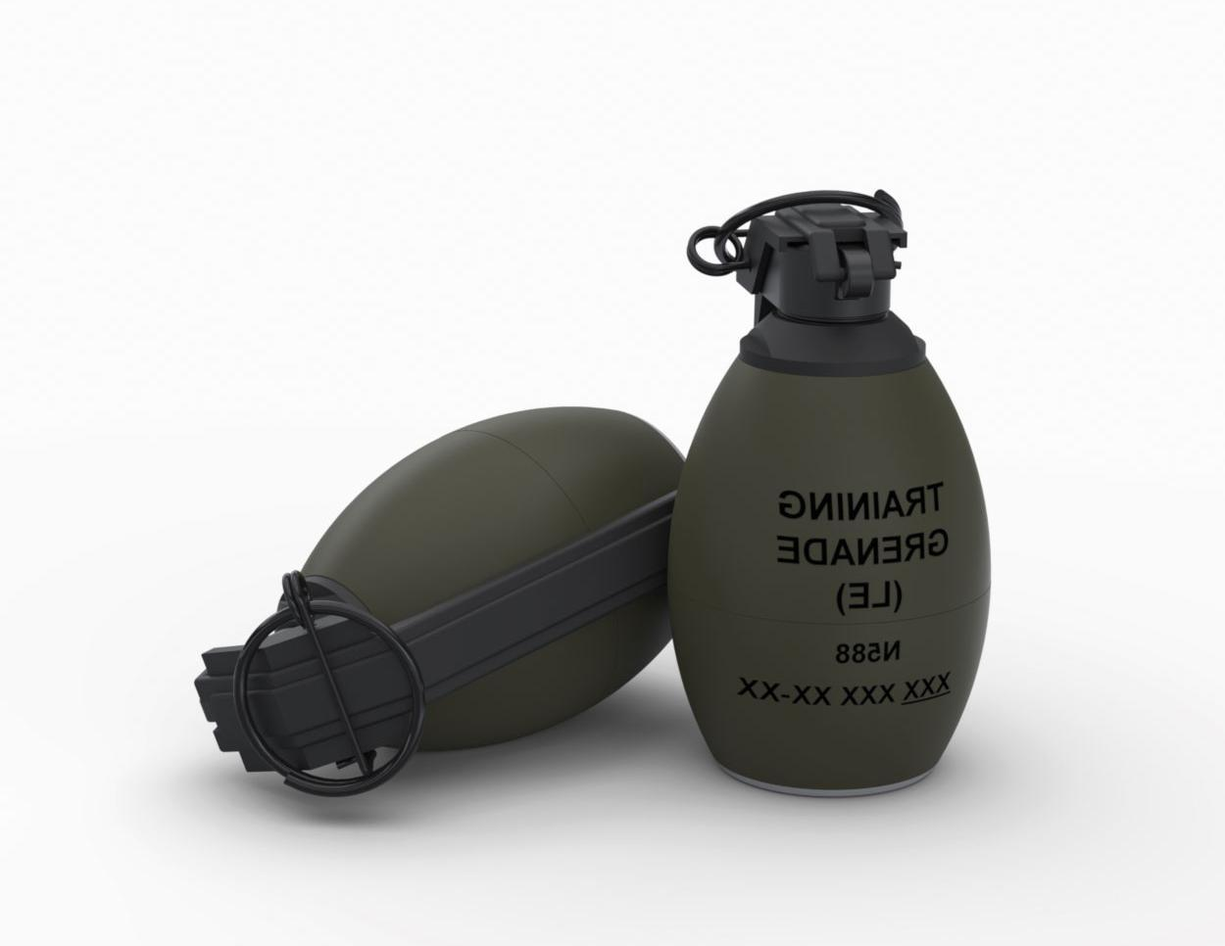Grenade: (670, 188, 992, 797), (194, 406, 682, 798)
